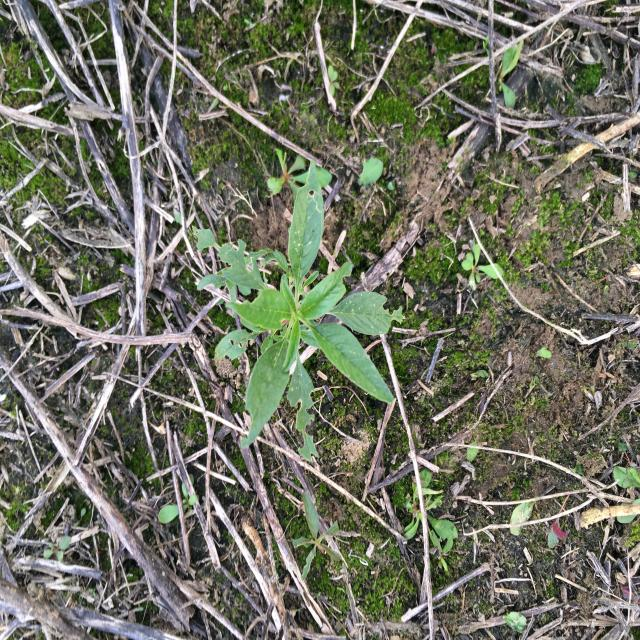Carpetweed: (266, 146, 334, 214)
Waterhemp: (189, 156, 407, 464)
